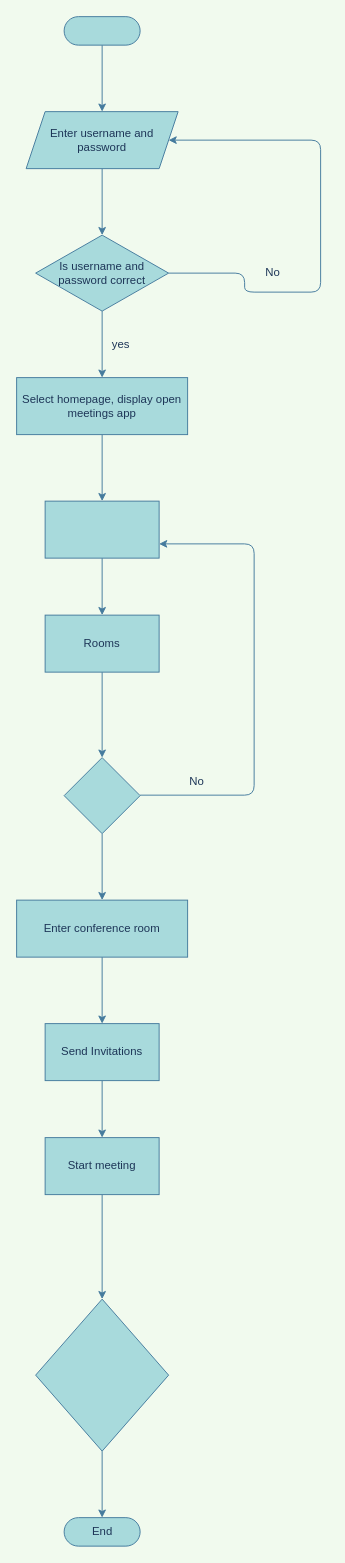
The diagram is 345 pixels wide and 1563 high, and some of its shapes have lost their labels. The shapes that lost their labels are listed below. From the top down, each one's box as (x1, y1, x2, y2) in pixels, then its label:
(63, 16, 140, 45): Start
(44, 500, 159, 558): Home
(63, 757, 140, 834): Enter rooms?
(35, 1298, 169, 1451): Grant user exclusive audio/video rights?
